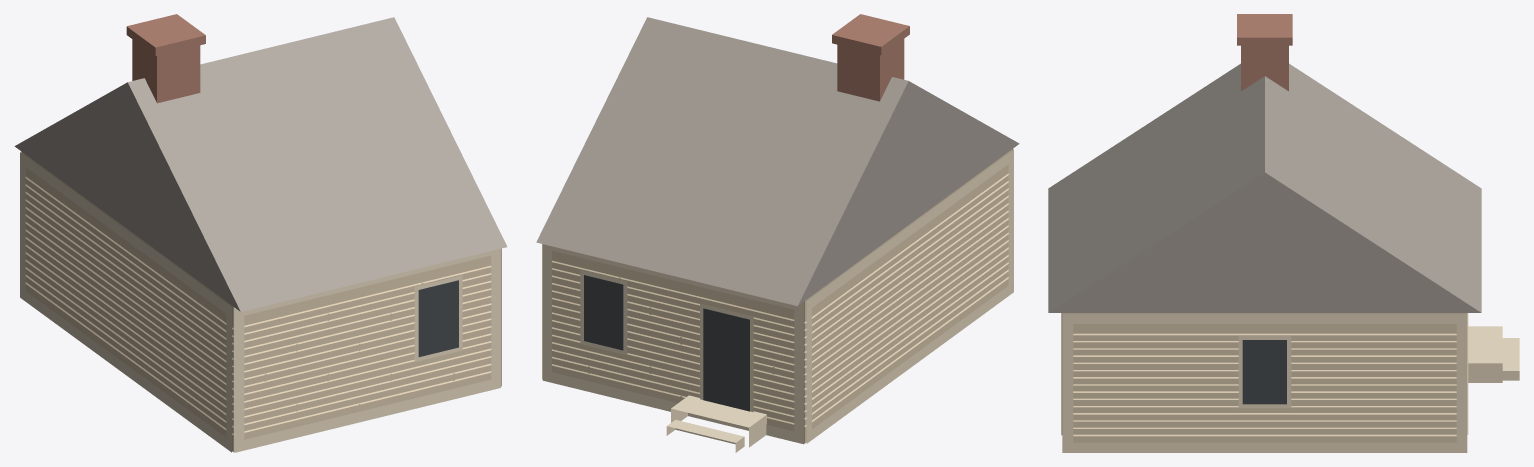
File: recon_1835_blk_south_water_franklin_d3_03__inferred_1835.glb
3 renders of one model, left to right at view 1: azimuth 30°, elevation 25°; view 2: azimuth 150°, elevation 25°; view 3: azimuth 270°, elevation 25°, orthographic. The views are drawn at different scales.
Parts seen in each view (by area): view 1: recon_1835_blk_south_water_franklin_d3_03__inferred_1835; view 2: recon_1835_blk_south_water_franklin_d3_03__inferred_1835; view 3: recon_1835_blk_south_water_franklin_d3_03__inferred_1835.
Boxes of the visible parts, left/top/right/bottom form: recon_1835_blk_south_water_franklin_d3_03__inferred_1835: left=14, top=14, right=507, bottom=452; recon_1835_blk_south_water_franklin_d3_03__inferred_1835: left=536, top=14, right=1019, bottom=452; recon_1835_blk_south_water_franklin_d3_03__inferred_1835: left=1048, top=14, right=1519, bottom=452.
Bounding box in the file's own units: 5.26 × 6.21 × 8.3.
